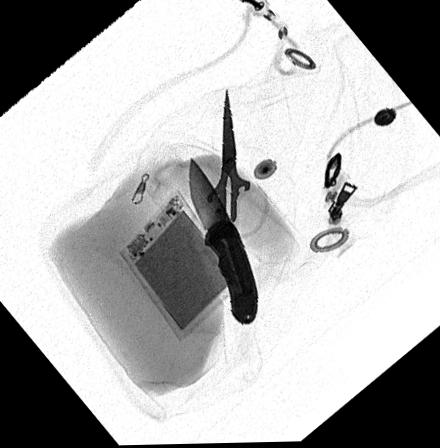Knife: (187, 157, 259, 324)
Powerbank: (114, 189, 239, 340)
Scissors: (184, 86, 271, 255)
